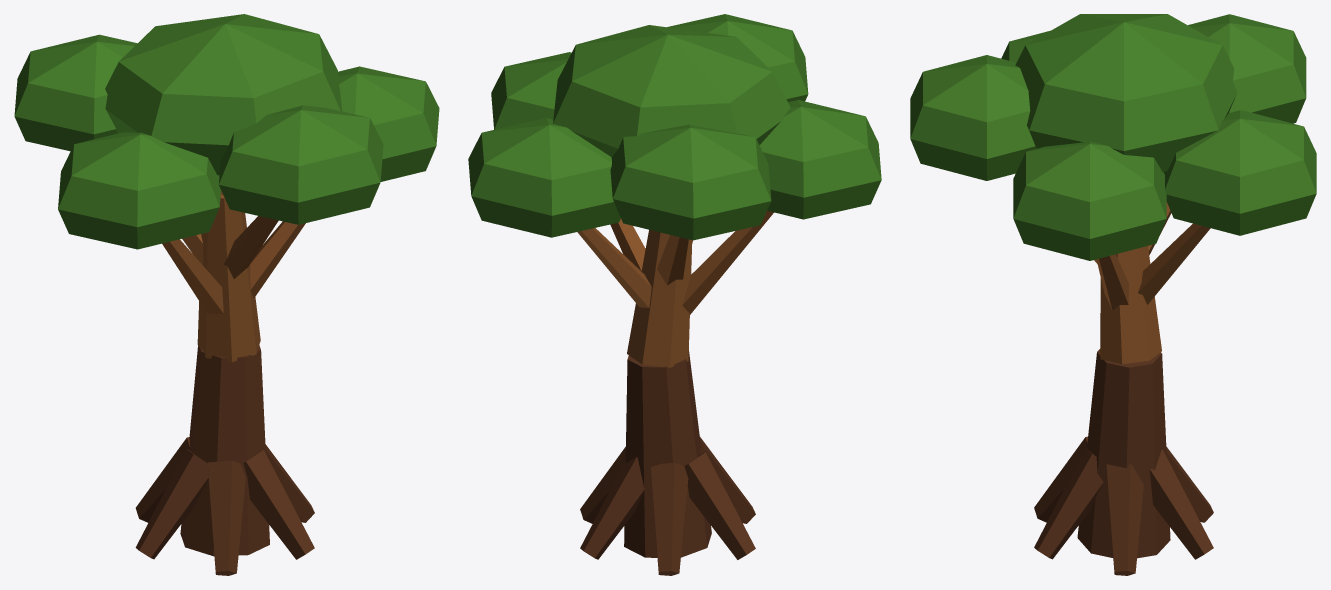
File: wroshyr.obj
3 views of the same model, side by side, from view 1: azimuth 30°, elevation 25°; view 2: azimuth 150°, elevation 25°; view 3: azimuth 270°, elevation 25° (orthographic). The views are drawn at different scales.
Size of the model in its own units: 9.7 by 12.3 by 8.73.
1 material, 1 textured.
